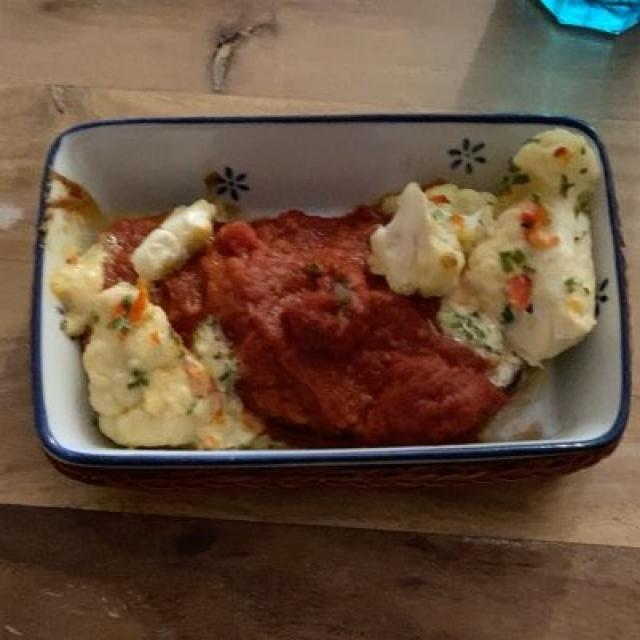tomato-sauce: (145, 204, 504, 442)
vegetable-au-gratin-baked: (59, 127, 604, 448)
